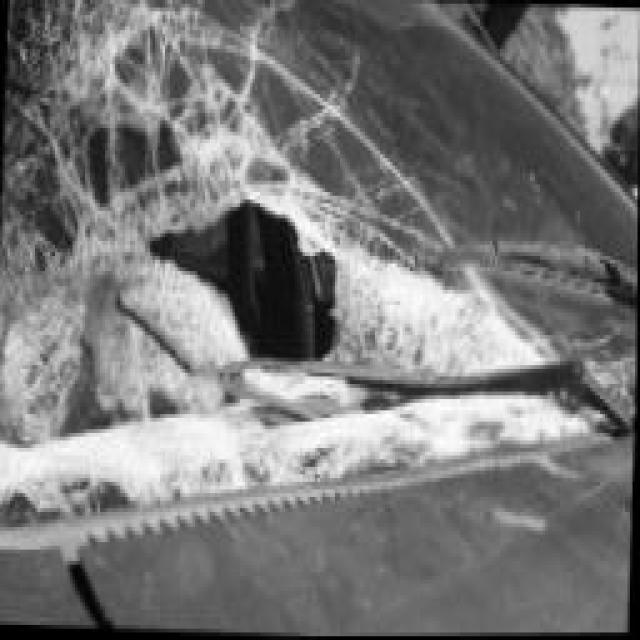Windshield: (0, 0, 635, 456)
